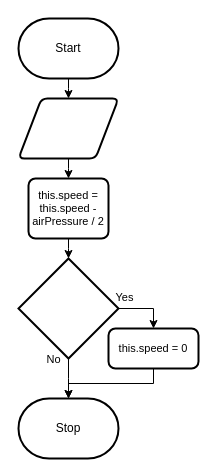
This 216x476 diagram has some shape labels left out. Here are the shapes that lost their labels. From the top down, the box of each, then its label:
(17, 97, 119, 159): Get airPressure
(17, 257, 119, 359): if (this.speed < 0)
